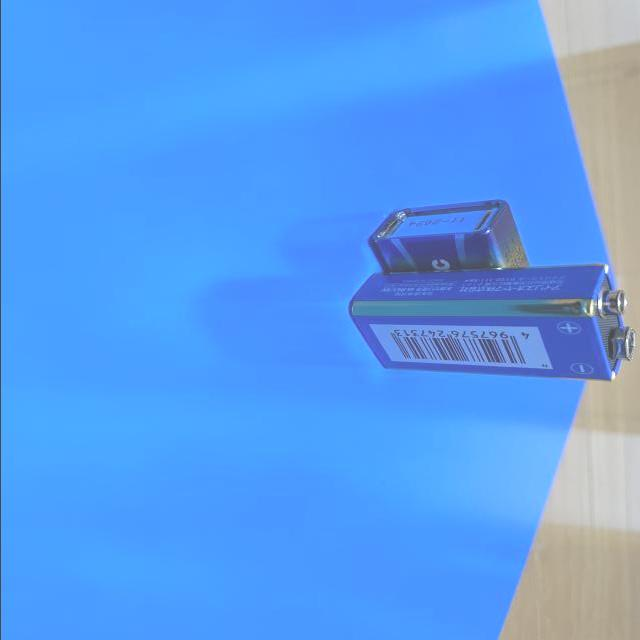9V: (349, 266, 634, 384), (368, 199, 532, 274)
